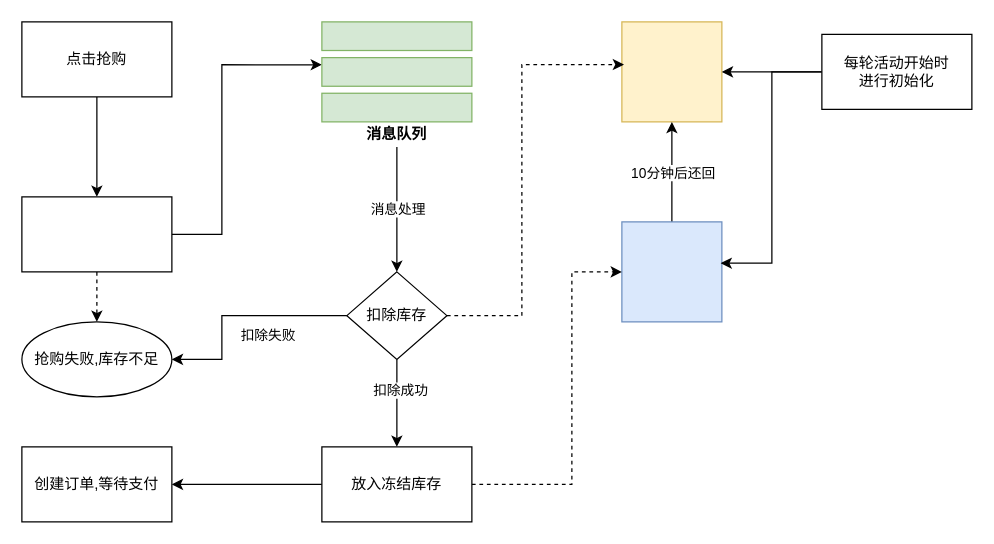
Image size: 994x544. Some labels were removed from this diagram. The centre of each missing label's shape, as x and y in pixels:
冻结库存: point 671,271
剩余库存: point 671,71
消息放入队列 等待处理结果: point 96,234
